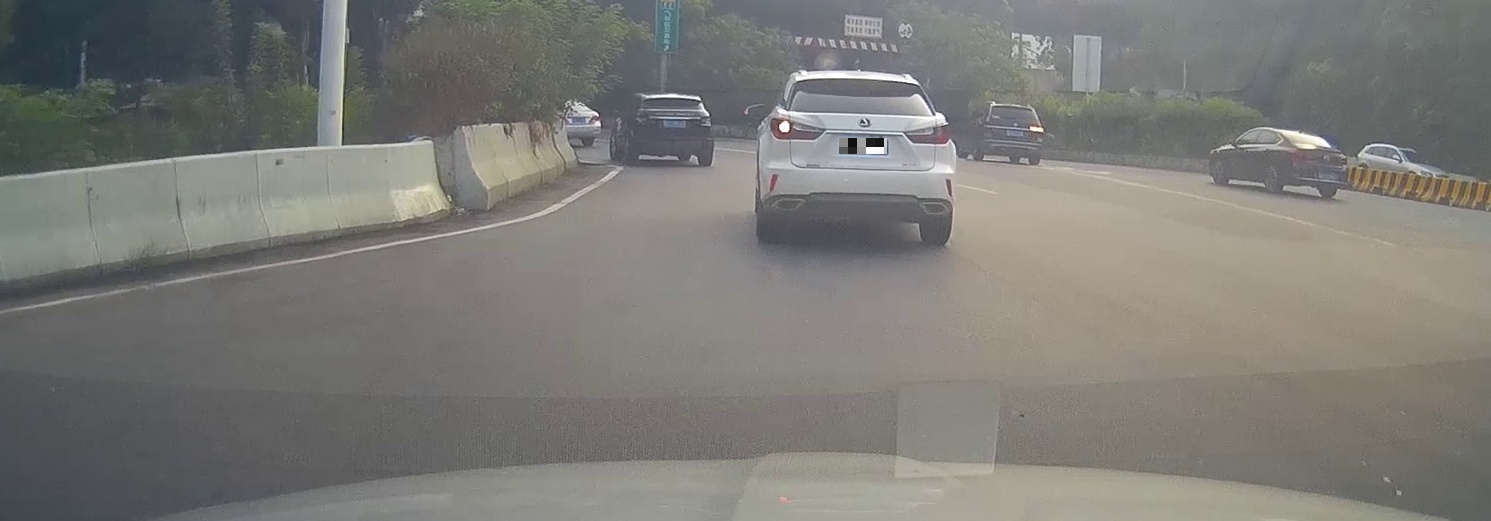L_light: (768, 118, 824, 140), (983, 120, 998, 125)
R_light: (903, 123, 952, 145), (1030, 126, 1044, 132)
T_light: (845, 79, 872, 84), (1009, 107, 1021, 110)
day-left: (759, 72, 954, 245)
day-right: (980, 102, 1044, 164)
plate_1: (839, 138, 887, 154)
